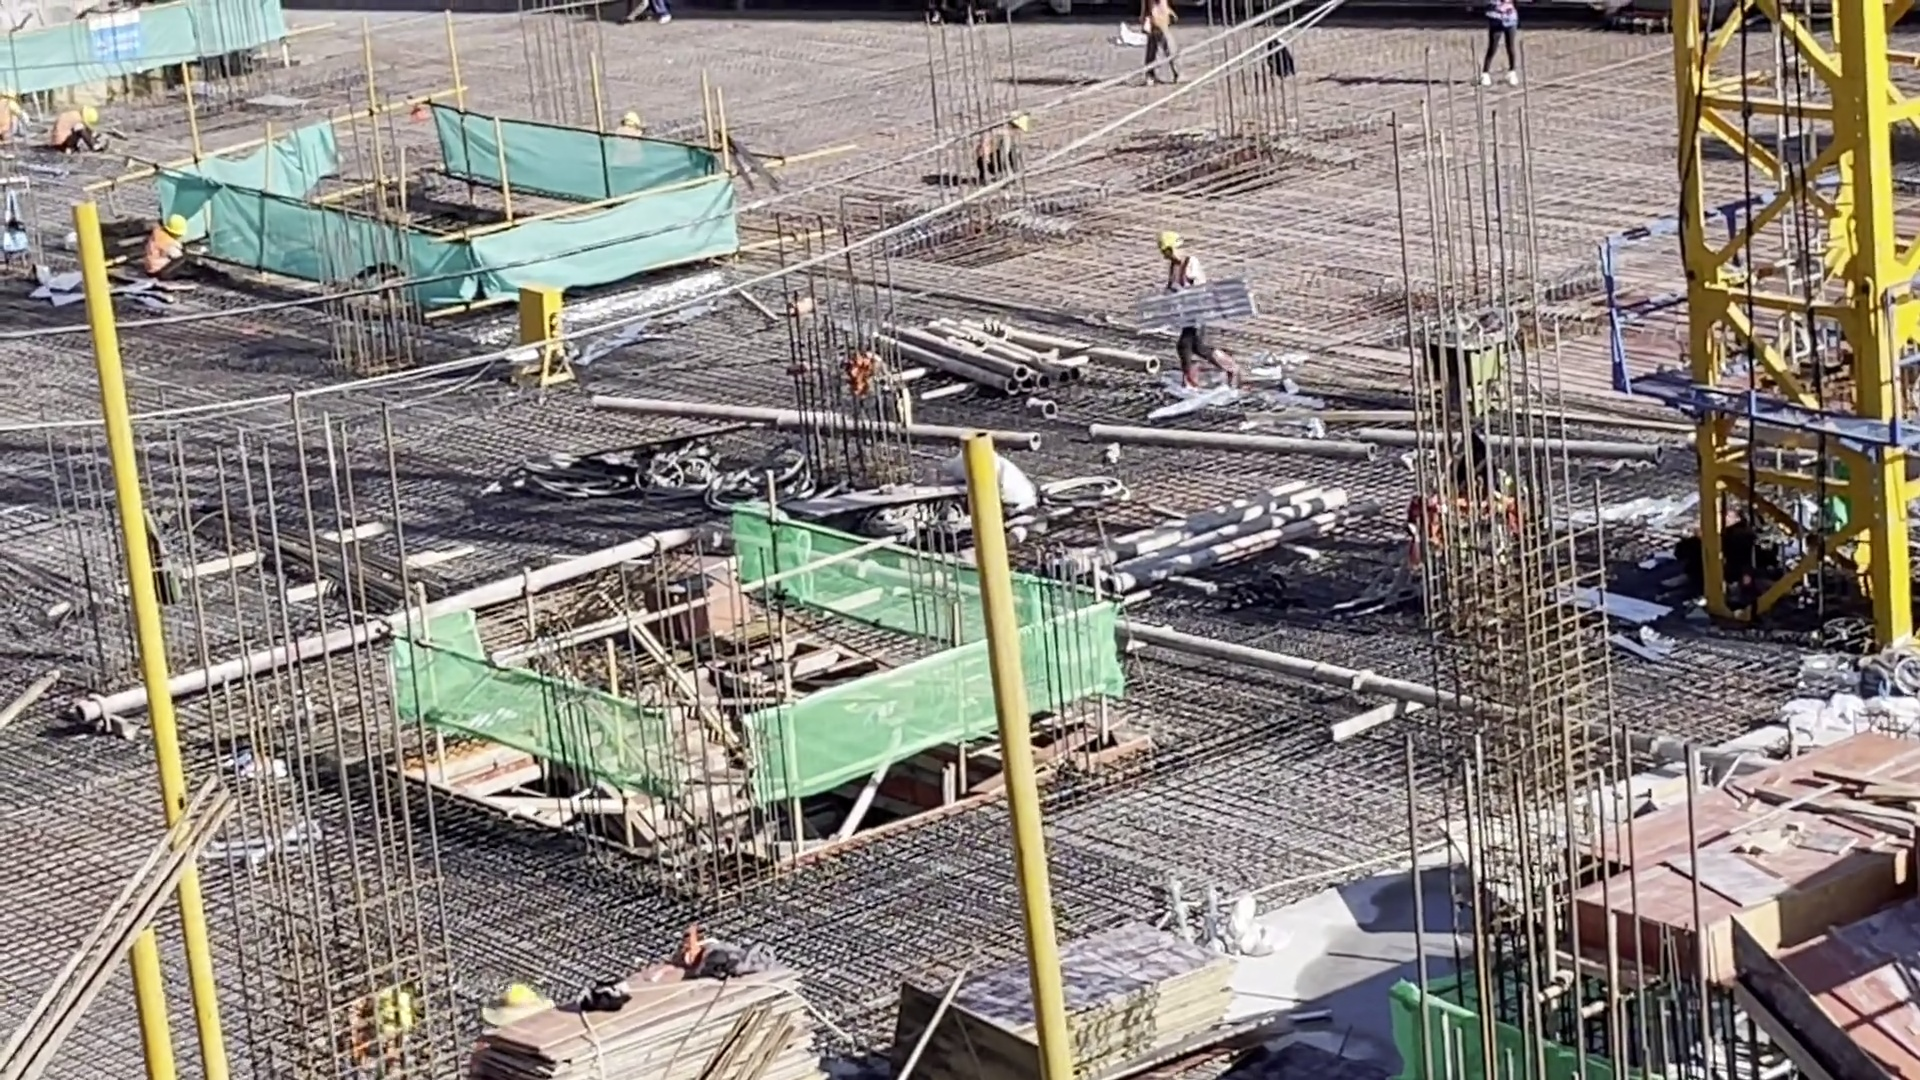board: (901, 877, 1233, 1077), (527, 918, 837, 1080)
ebox: (503, 258, 574, 371)
helmet: (494, 971, 545, 1008), (1150, 224, 1188, 256), (1005, 103, 1038, 133), (163, 202, 186, 241), (619, 109, 651, 129), (80, 101, 99, 129), (1, 82, 20, 102)
person: (1141, 184, 1248, 399), (341, 963, 447, 1080), (144, 207, 226, 291), (1477, 1, 1534, 89), (1134, 1, 1189, 85), (973, 102, 1031, 178), (48, 97, 118, 158), (1, 80, 25, 144)
scaffold: (904, 301, 1145, 423)
vest: (144, 230, 184, 279), (977, 126, 1020, 169), (53, 113, 96, 150)
